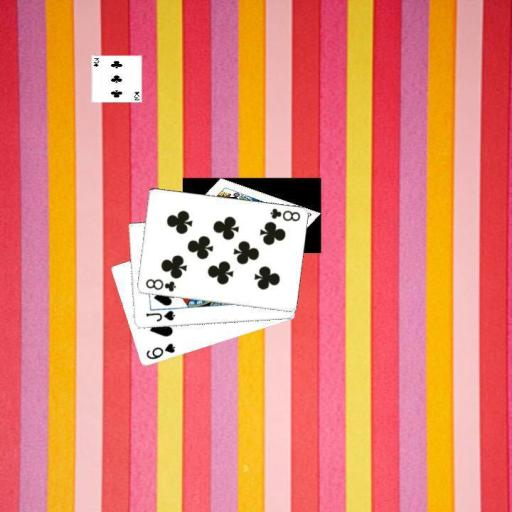card-corner: (143, 341, 176, 361), (142, 276, 177, 294), (266, 206, 302, 222), (143, 308, 176, 323)
